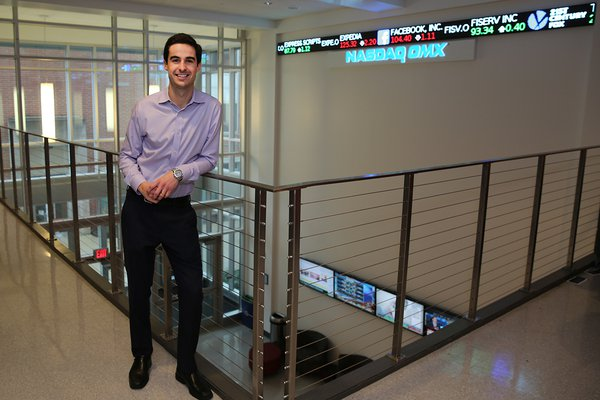Person: (120, 31, 224, 400)
